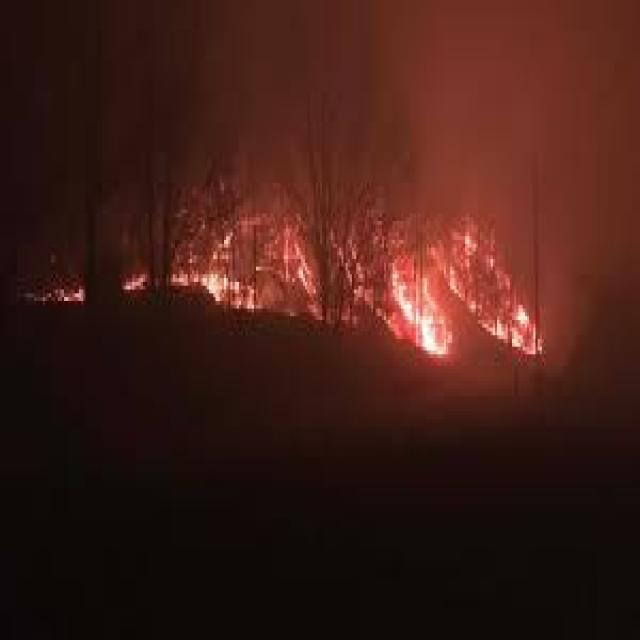Fire: (0, 149, 554, 366)
